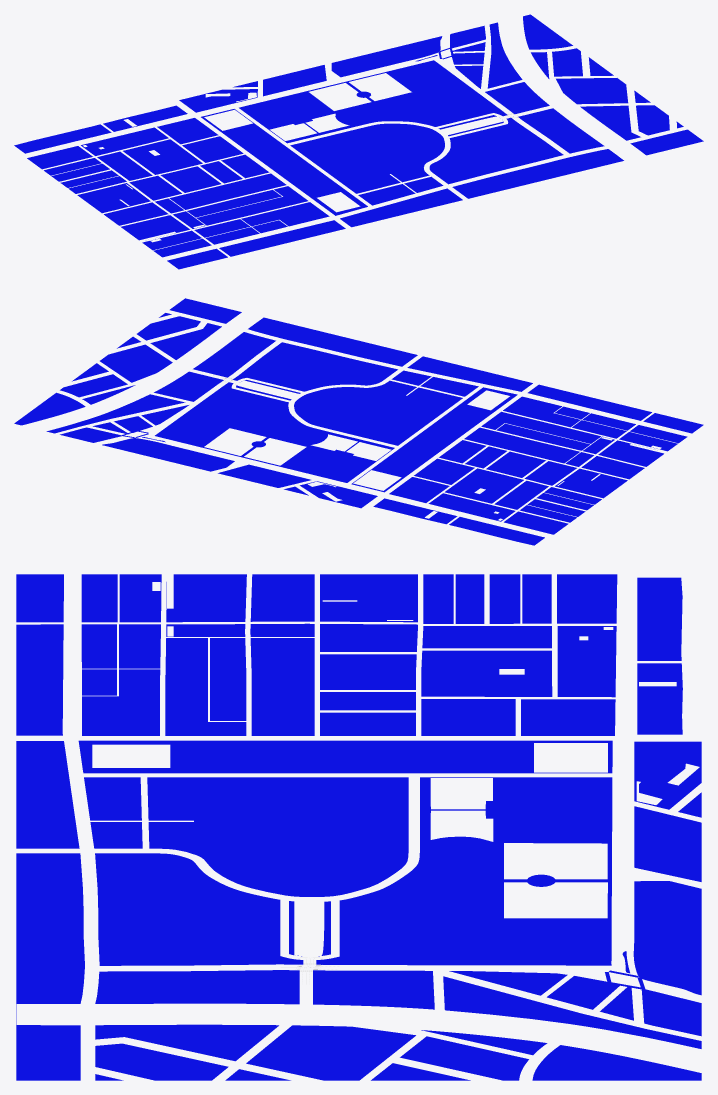
The model's file is Road Dashed Lines.fbx.
3 views of the same model, one above another, from view 1: azimuth 30°, elevation 25°; view 2: azimuth 150°, elevation 25°; view 3: azimuth 270°, elevation 25° (orthographic). The views are drawn at different scales.
Parts seen in each view (by area): view 1: PATHWAY; view 2: PATHWAY; view 3: PATHWAY.
Boxes of the visible parts, x1,y1,x2,y2 form: PATHWAY: (14,14,703,269); PATHWAY: (14,298,703,545); PATHWAY: (16,574,701,1080).
Size of the model in its own units: 1800 by 1029 by 0.809.
